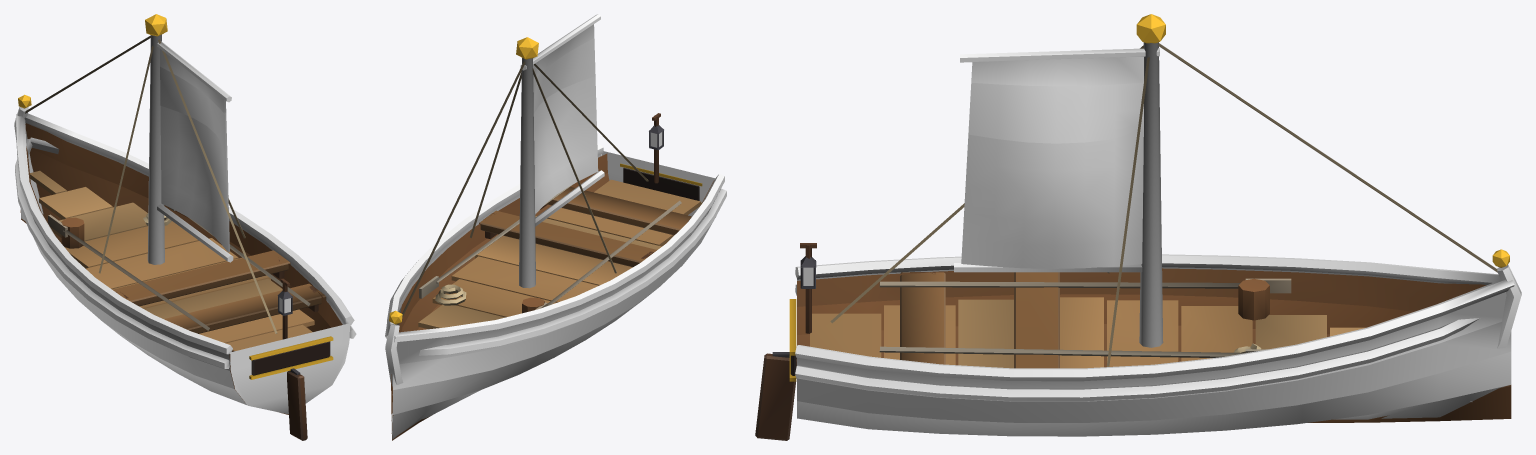
The model's file is SK_HeroSkiff.fbx.
3 renders of one model, left to right at view 1: azimuth 30°, elevation 25°; view 2: azimuth 150°, elevation 25°; view 3: azimuth 270°, elevation 25°, orthographic. The views are drawn at different scales.
Visible parts, largest first — view 1: SK_HeroSkiff_3_Wood, SK_HeroSkiff_4_Wood, SK_HeroSkiff_7_SmoothPlastic, SK_HeroSkiff_1_SmoothPlastic, SK_HeroSkiff_2_SmoothPlastic, SK_HeroSkiff_6_Wood, SK_HeroSkiff_8_SmoothPlastic, SK_HeroSkiff_9_SmoothPlastic, SK_HeroSkiff_5_Metal; view 2: SK_HeroSkiff_3_Wood, SK_HeroSkiff_1_SmoothPlastic, SK_HeroSkiff_4_Wood, SK_HeroSkiff_7_SmoothPlastic, SK_HeroSkiff_2_SmoothPlastic, SK_HeroSkiff_6_Wood, SK_HeroSkiff_9_SmoothPlastic, SK_HeroSkiff_8_SmoothPlastic, SK_HeroSkiff_5_Metal; view 3: SK_HeroSkiff_3_Wood, SK_HeroSkiff_1_SmoothPlastic, SK_HeroSkiff_7_SmoothPlastic, SK_HeroSkiff_4_Wood, SK_HeroSkiff_8_SmoothPlastic, SK_HeroSkiff_2_SmoothPlastic, SK_HeroSkiff_6_Wood, SK_HeroSkiff_9_SmoothPlastic, SK_HeroSkiff_5_Metal.
Boxes of the visible parts, x1,y1,x2,y2 form: SK_HeroSkiff_3_Wood: (20, 123, 342, 440); SK_HeroSkiff_4_Wood: (14, 41, 354, 414); SK_HeroSkiff_7_SmoothPlastic: (160, 49, 229, 252); SK_HeroSkiff_1_SmoothPlastic: (20, 132, 345, 404); SK_HeroSkiff_2_SmoothPlastic: (15, 137, 356, 368); SK_HeroSkiff_6_Wood: (147, 34, 164, 264); SK_HeroSkiff_8_SmoothPlastic: (160, 66, 227, 153); SK_HeroSkiff_9_SmoothPlastic: (25, 35, 277, 333); SK_HeroSkiff_5_Metal: (18, 14, 333, 379); SK_HeroSkiff_3_Wood: (391, 113, 714, 440); SK_HeroSkiff_1_SmoothPlastic: (391, 154, 711, 439); SK_HeroSkiff_4_Wood: (385, 14, 724, 387); SK_HeroSkiff_7_SmoothPlastic: (533, 24, 598, 214); SK_HeroSkiff_2_SmoothPlastic: (385, 188, 726, 355); SK_HeroSkiff_6_Wood: (519, 57, 535, 288); SK_HeroSkiff_9_SmoothPlastic: (397, 61, 648, 324); SK_HeroSkiff_8_SmoothPlastic: (533, 38, 595, 113); SK_HeroSkiff_5_Metal: (389, 37, 702, 324); SK_HeroSkiff_3_Wood: (755, 243, 1511, 440); SK_HeroSkiff_1_SmoothPlastic: (797, 267, 1511, 436); SK_HeroSkiff_7_SmoothPlastic: (961, 56, 1143, 268); SK_HeroSkiff_4_Wood: (795, 48, 1521, 401); SK_HeroSkiff_8_SmoothPlastic: (968, 82, 1143, 143); SK_HeroSkiff_2_SmoothPlastic: (795, 284, 1479, 401); SK_HeroSkiff_6_Wood: (1139, 42, 1163, 347); SK_HeroSkiff_9_SmoothPlastic: (830, 43, 1497, 366); SK_HeroSkiff_5_Metal: (772, 14, 1509, 381).
Size of the model in its own units: 10.12 by 16.45 by 26.82.
